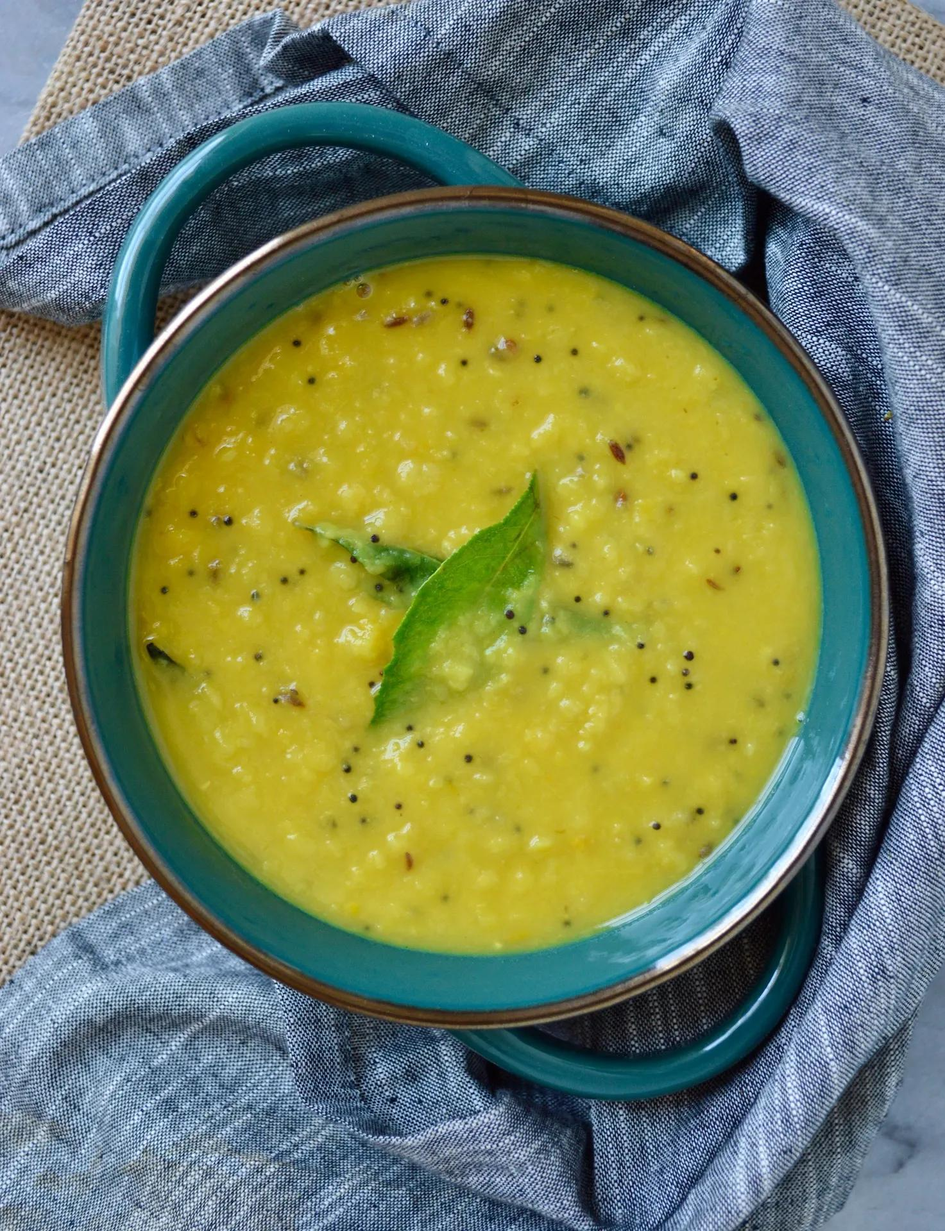dal: (125, 261, 828, 965)
